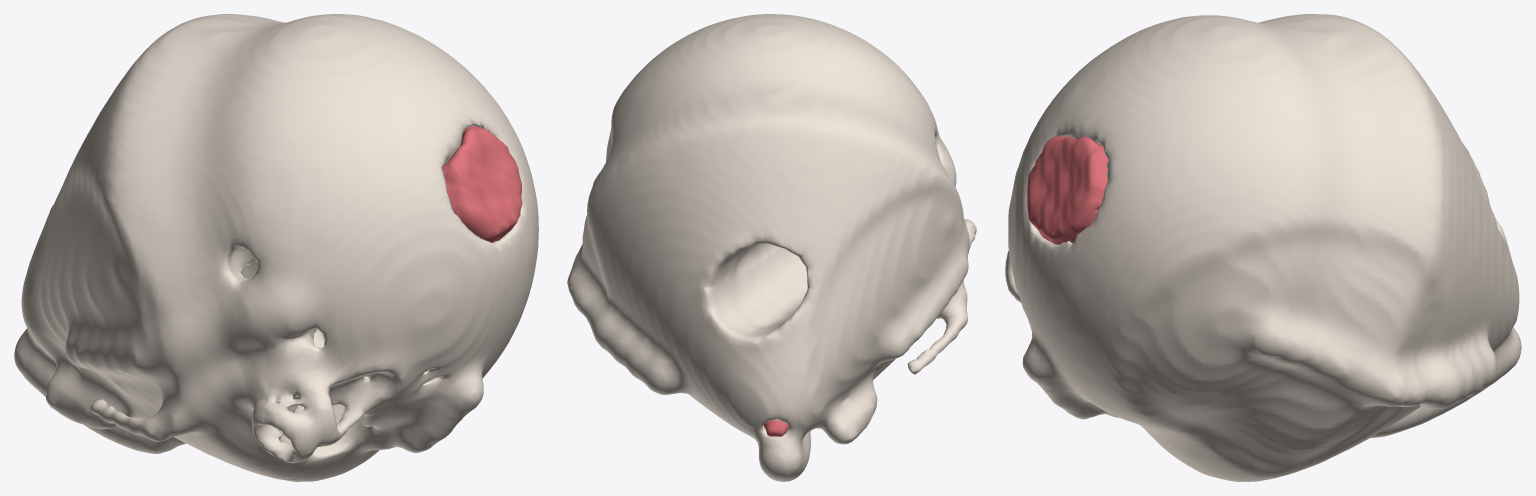
Rendered from case_01.glb.
3 renders of one model, left to right at view 1: azimuth 30°, elevation 25°; view 2: azimuth 150°, elevation 25°; view 3: azimuth 270°, elevation 25°, orthographic. The views are drawn at different scales.
Parts seen in each view (by area): view 1: heart, pool; view 2: heart; view 3: heart, pool.
Boxes of the visible parts, bbox=[...] form: heart: bbox=[14, 14, 538, 481]; pool: bbox=[442, 126, 522, 242]; heart: bbox=[567, 14, 976, 481]; heart: bbox=[1005, 14, 1521, 481]; pool: bbox=[1027, 136, 1108, 244].
Size of the model in its own units: 126 by 133 by 138.
